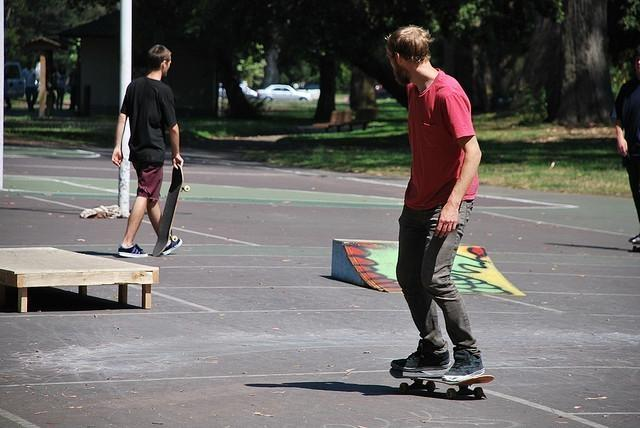car: (257, 84, 313, 102), (4, 62, 25, 98), (218, 83, 258, 101)
